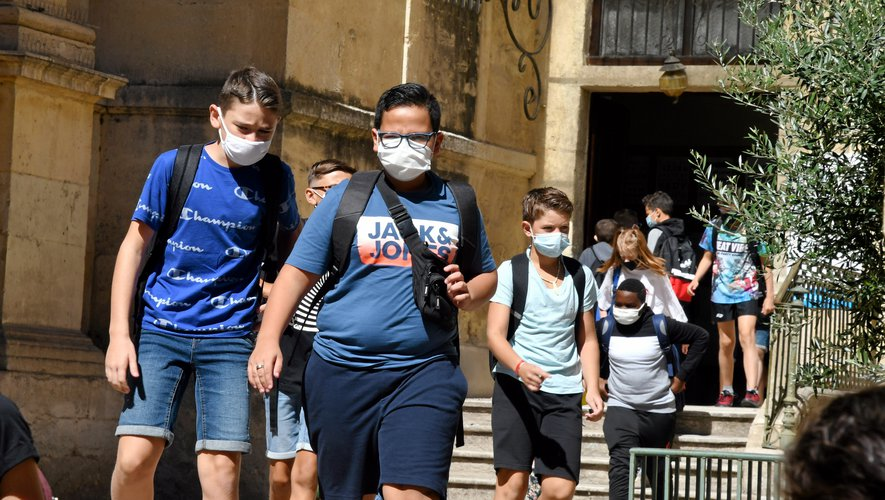with_mask: (377, 115, 434, 179), (224, 105, 273, 165), (536, 215, 569, 257), (612, 295, 642, 322), (614, 244, 640, 269), (644, 202, 668, 228)
